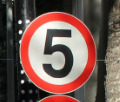speed_limit_5: (20, 11, 96, 94)
